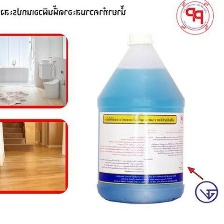cleaning_solution: (93, 30, 187, 205)
